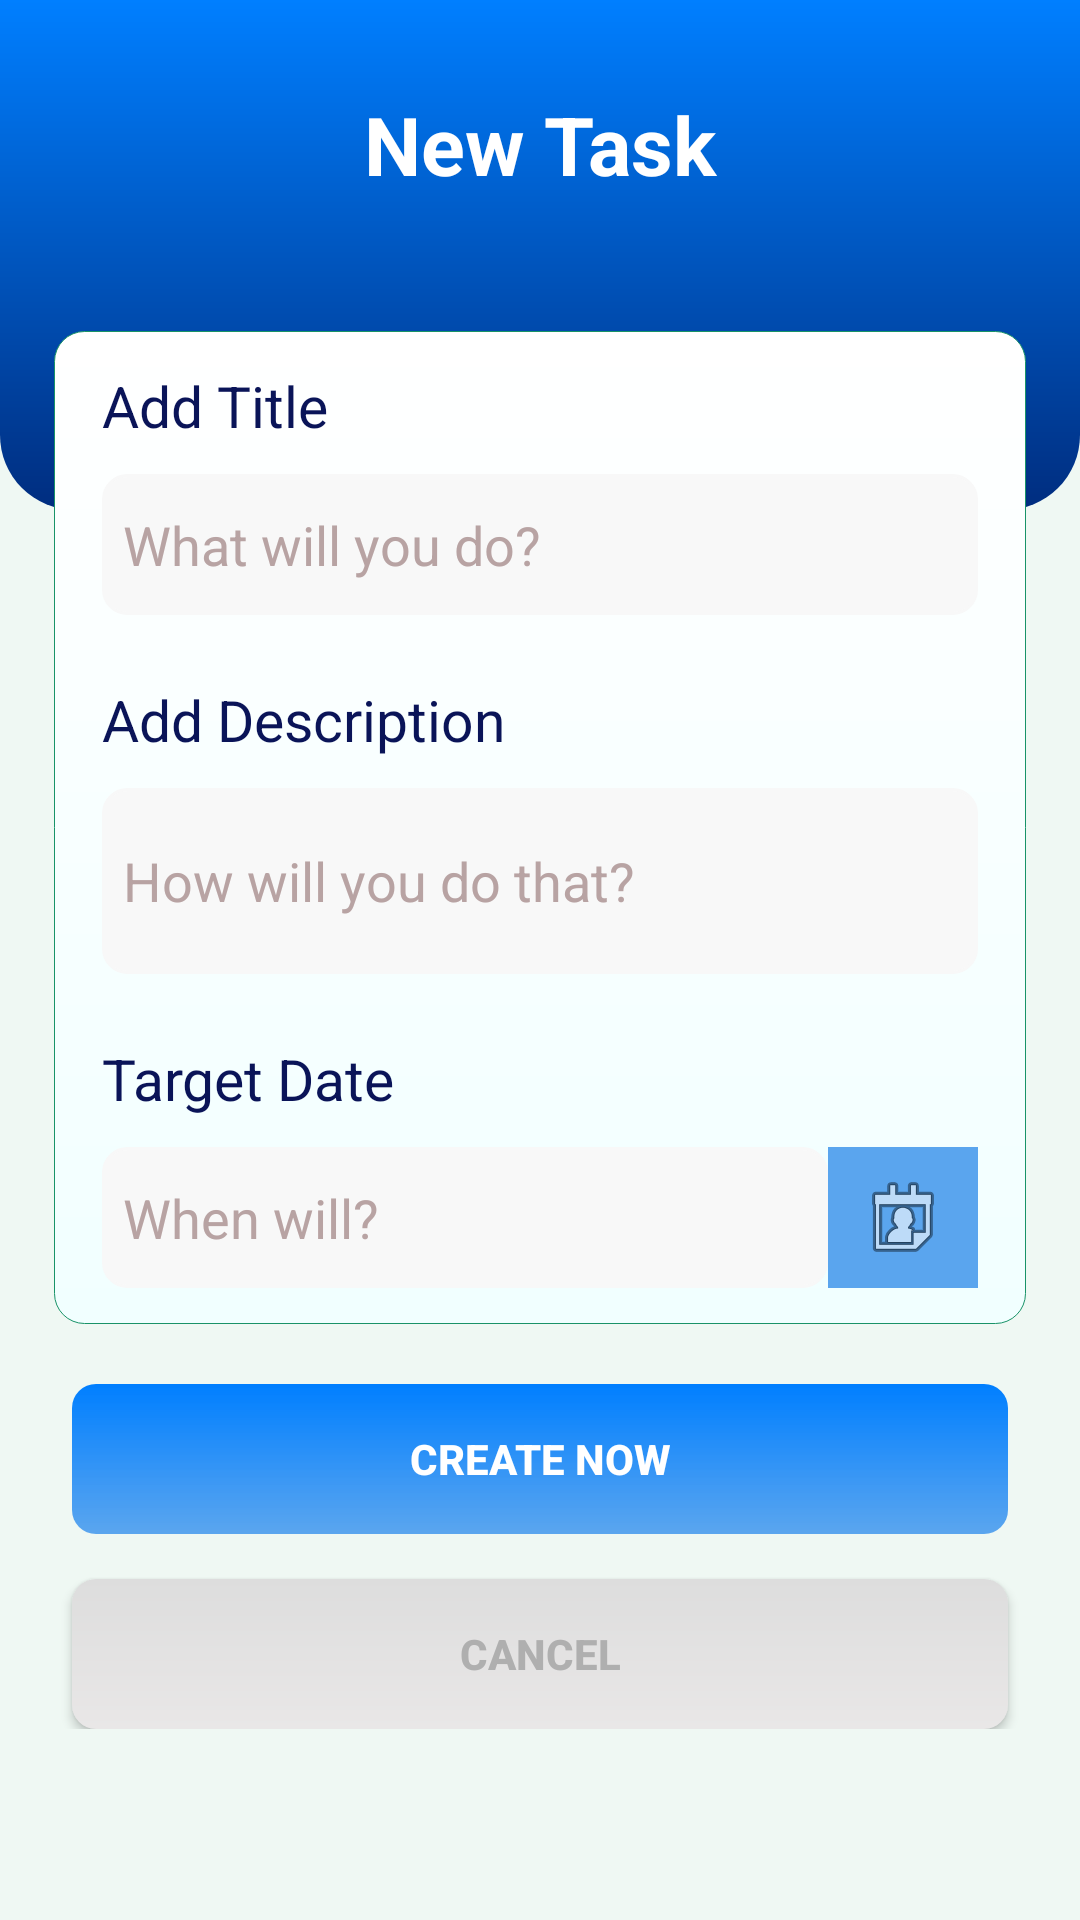

Icons on this 1080px x 1920px Android screen, each with its box as (x1, y1, x2, y2):
calendar: (828, 1147, 978, 1288)
